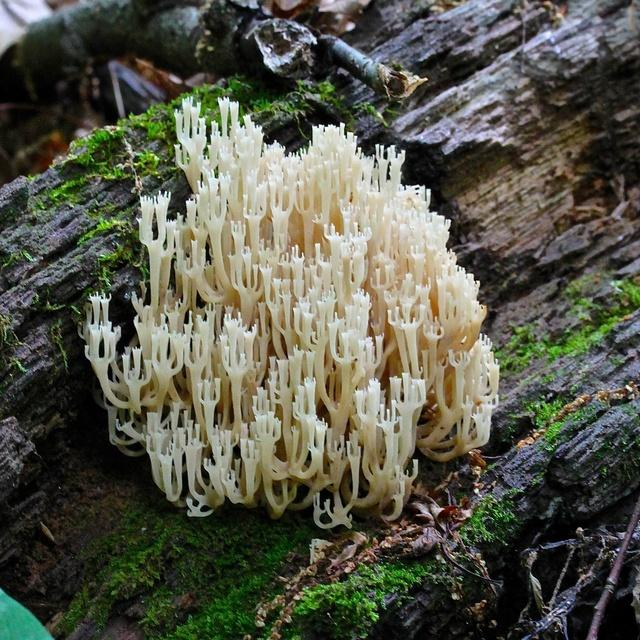edible_mushroom: (77, 93, 501, 530)
